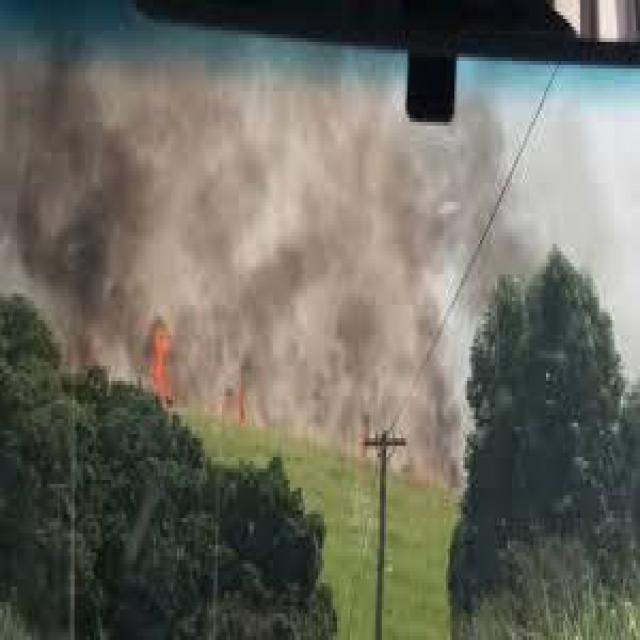Fire: (152, 320, 172, 398)
Smoke: (184, 74, 495, 456), (4, 37, 146, 364)
